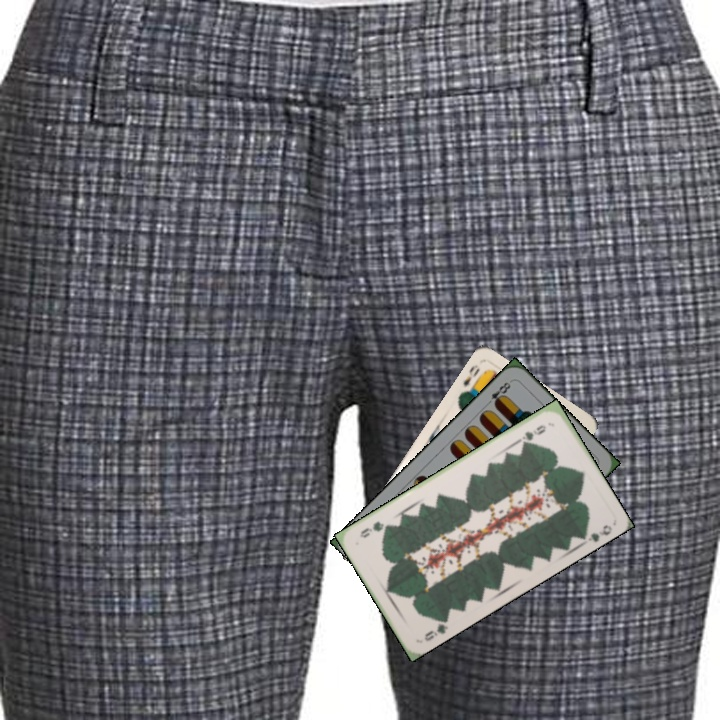E8: (482, 377, 515, 409)
EO: (459, 361, 482, 389)
G9: (420, 614, 451, 644), (515, 421, 549, 447)
